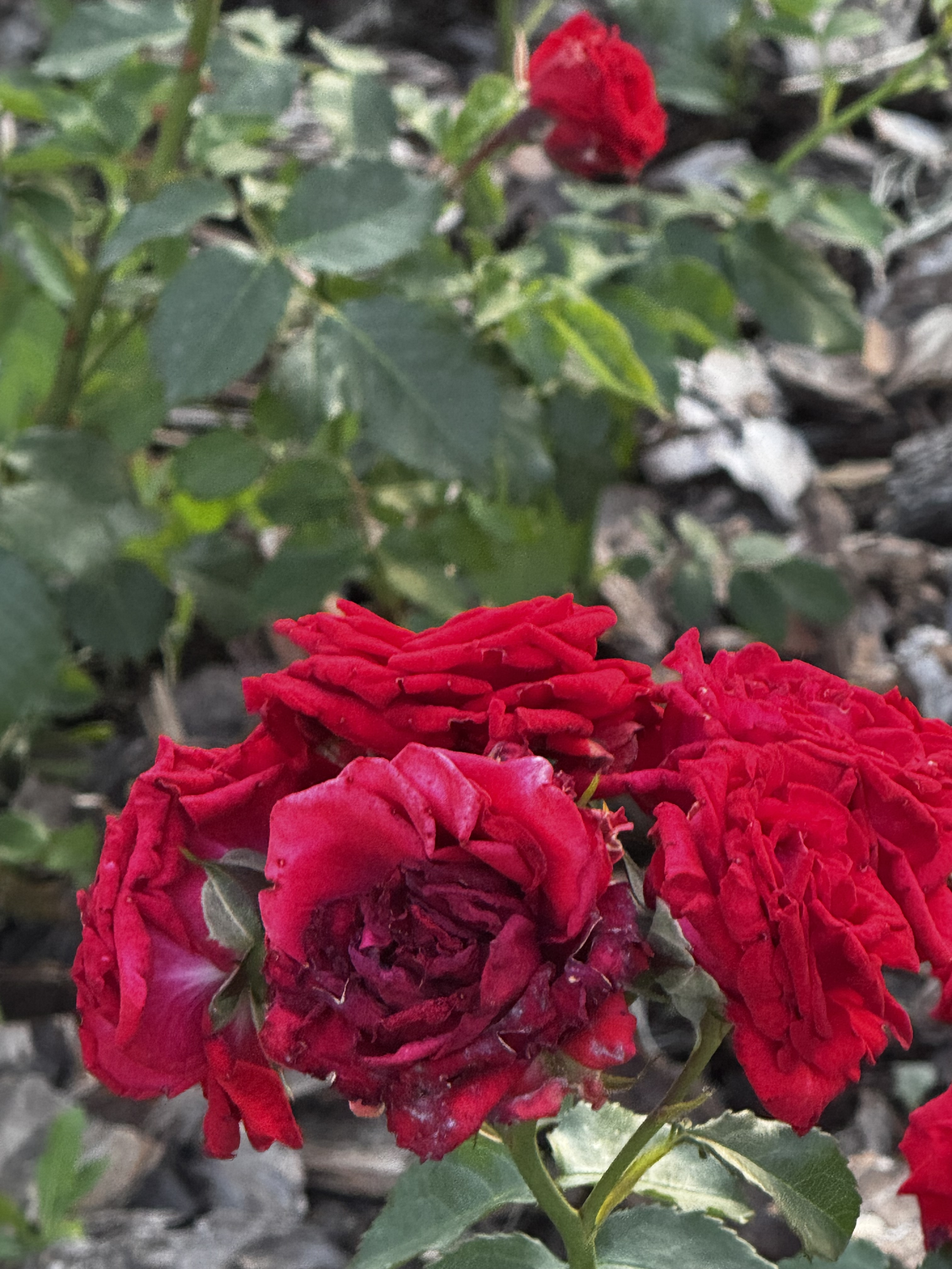rose: (237, 738, 659, 1146), (68, 729, 323, 1163), (654, 727, 928, 1125), (248, 573, 667, 770), (654, 580, 909, 755), (513, 0, 678, 172)
